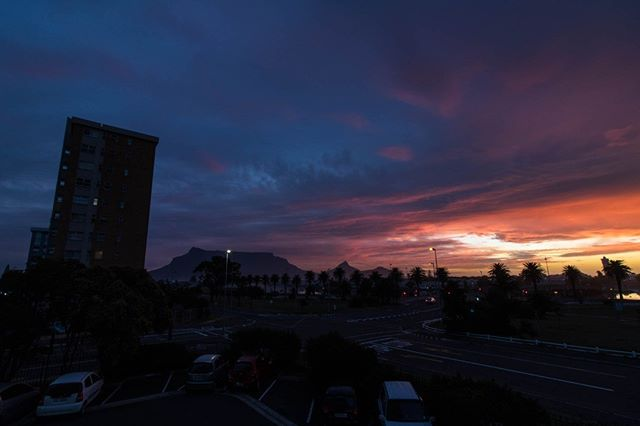building: (31, 113, 159, 302)
car: (36, 372, 106, 421), (184, 348, 225, 394), (230, 350, 271, 396), (323, 380, 364, 426), (381, 380, 422, 426)
sky: (6, 1, 640, 197)
street: (226, 305, 640, 416)
